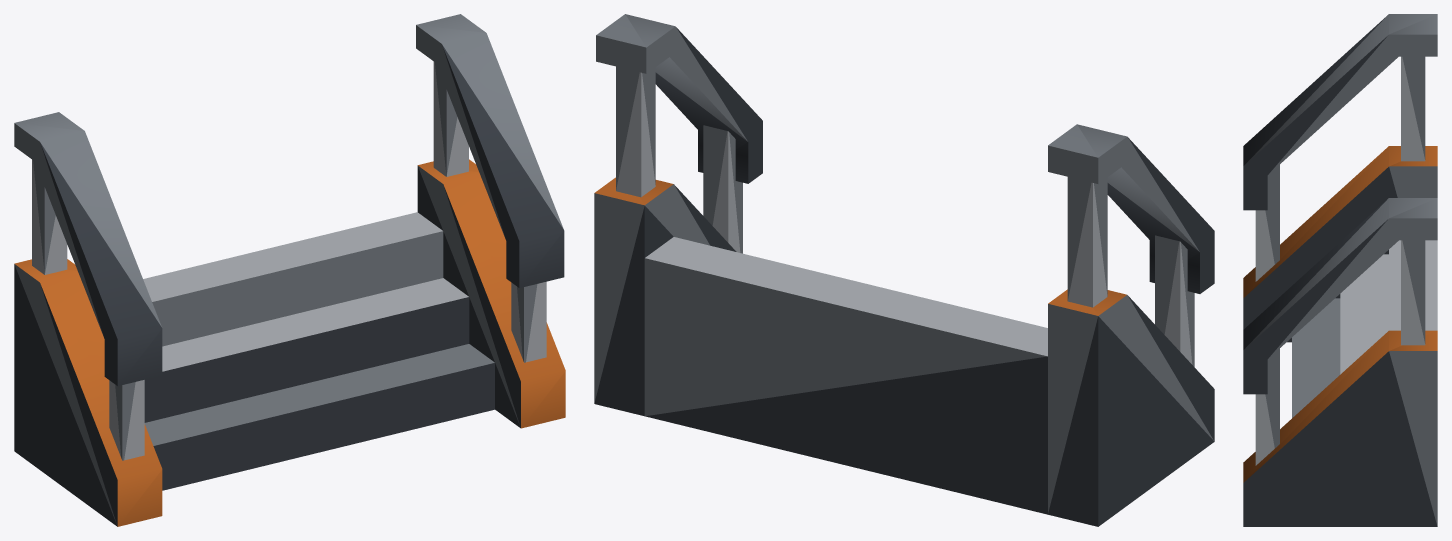
The model's file is Kit_stairs-small-edges-handrail.fbx.
3 views of the same model, side by side, from view 1: azimuth 30°, elevation 25°; view 2: azimuth 150°, elevation 25°; view 3: azimuth 270°, elevation 25° (orthographic). The views are drawn at different scales.
Visible parts, largest first — view 1: Kit_stairs-small-edges-handrail; view 2: Kit_stairs-small-edges-handrail; view 3: Kit_stairs-small-edges-handrail.
Boxes of the visible parts, <box> form: Kit_stairs-small-edges-handrail: <box>14,14,565,526</box>; Kit_stairs-small-edges-handrail: <box>594,14,1214,526</box>; Kit_stairs-small-edges-handrail: <box>1243,14,1437,526</box>.
Bounding box in the file's own units: 1 × 0.7 × 0.4.
